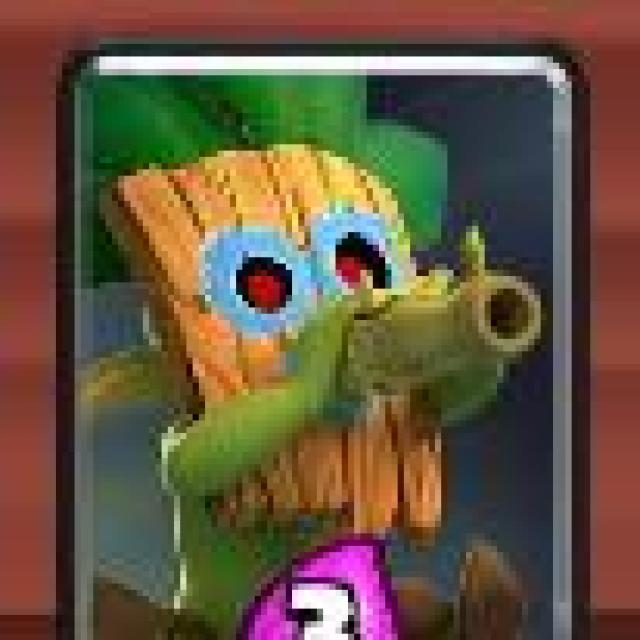Dart_Goblin: (45, 42, 580, 640)
